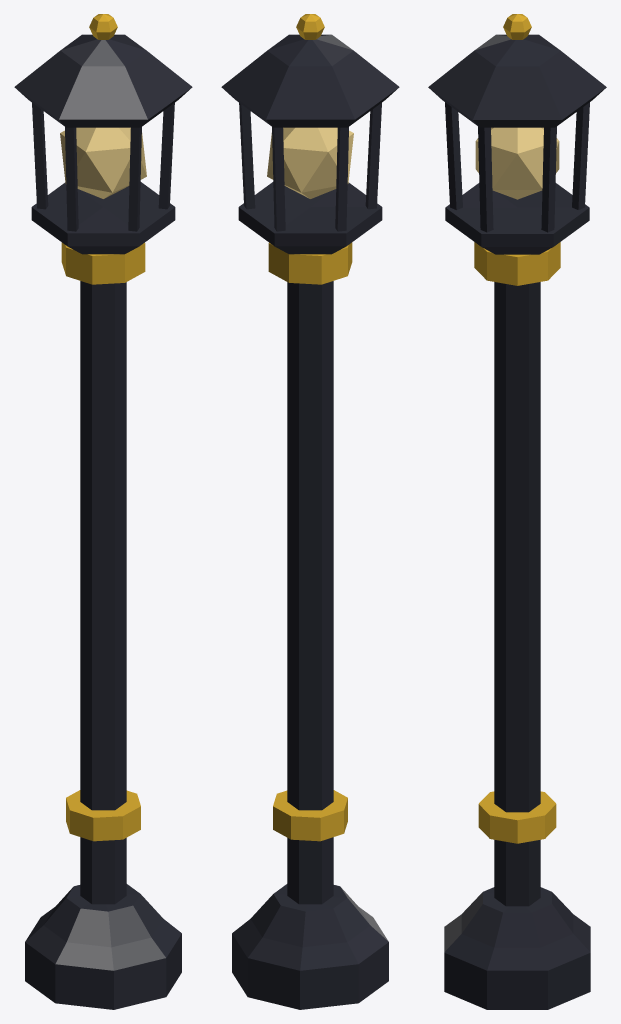
The model's file is Prop_Lamp.fbx.
3 views of the same model, side by side, from view 1: azimuth 30°, elevation 25°; view 2: azimuth 150°, elevation 25°; view 3: azimuth 270°, elevation 25° (orthographic).
Parts seen in each view (by area): view 1: Body, Glow; view 2: Body, Glow; view 3: Body, Glow.
Part boxes in pixels (<box>): Body: <box>14,14,192,1009</box>; Glow: <box>60,127,146,198</box>; Body: <box>221,14,399,1009</box>; Glow: <box>267,127,353,198</box>; Body: <box>428,14,606,1009</box>; Glow: <box>475,127,559,199</box>.
Bounding box in the file's own units: 1.07 × 7.38 × 1.24.
